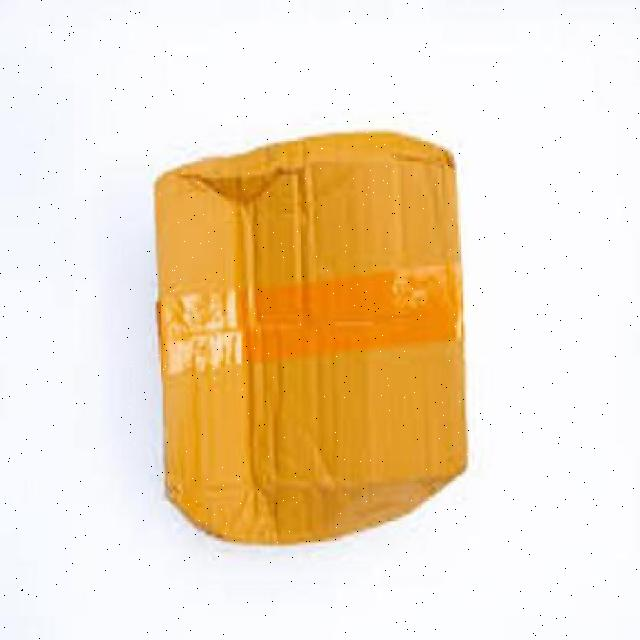defect: (148, 129, 474, 540)
